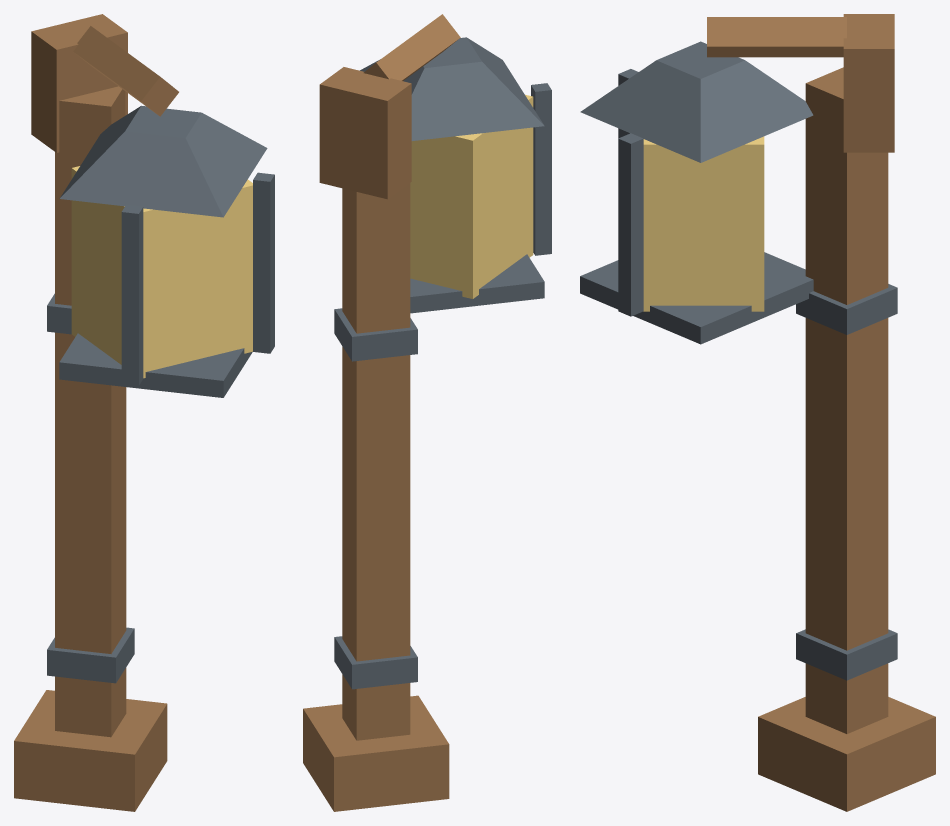
The model's file is Grassland_LampPost.fbx.
3 renders of one model, left to right at view 1: azimuth 30°, elevation 25°; view 2: azimuth 150°, elevation 25°; view 3: azimuth 270°, elevation 25°, orthographic. The views are drawn at different scales.
Visible parts, largest first — view 1: Grassland_LampPost; view 2: Grassland_LampPost; view 3: Grassland_LampPost.
Part boxes in pixels (x1=…): Grassland_LampPost: x1=14, y1=14, x2=274, y2=811; Grassland_LampPost: x1=303, y1=14, x2=551, y2=811; Grassland_LampPost: x1=580, y1=14, x2=935, y2=811.
Size of the model in its own units: 38 by 131 by 56.
